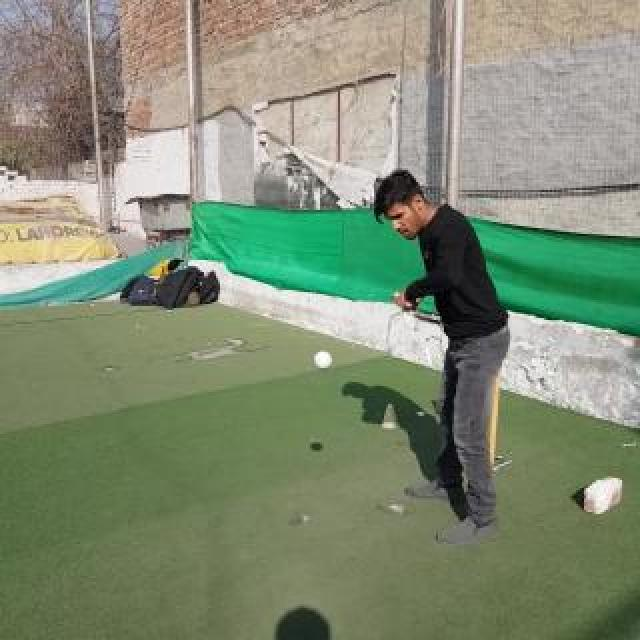ball: (315, 351, 333, 369)
